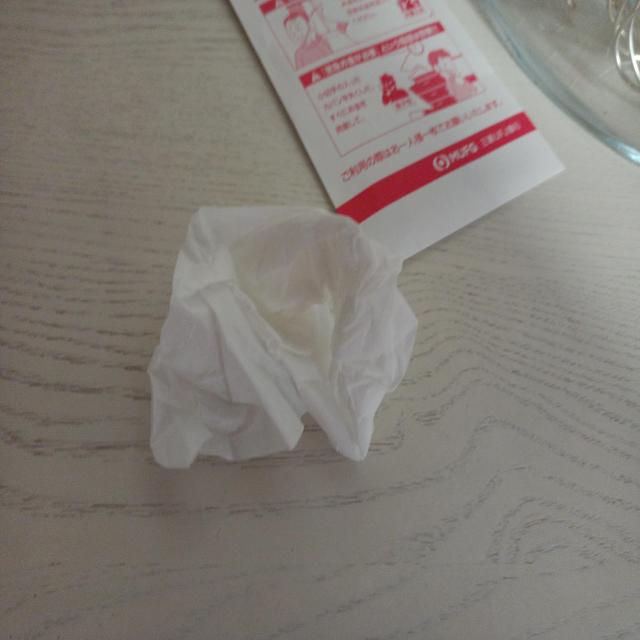衛生紙: (142, 196, 420, 466)
